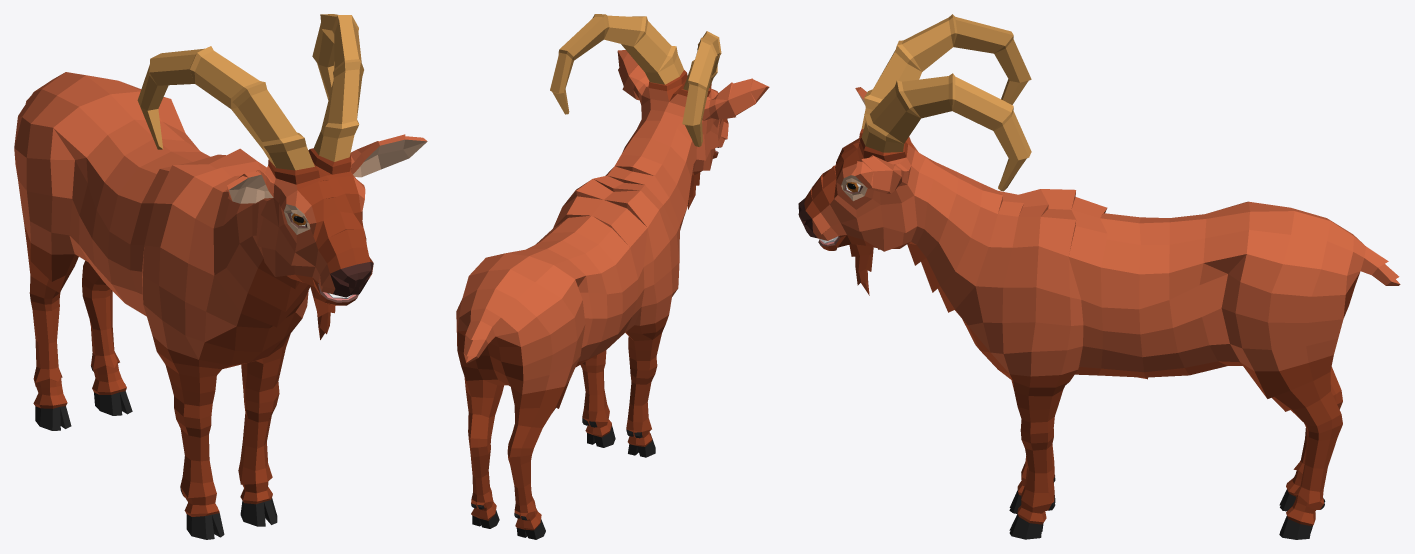
Rendered from LowPoly_Goat_Male_7.obj.
3 renders of one model, left to right at view 1: azimuth 30°, elevation 25°; view 2: azimuth 150°, elevation 25°; view 3: azimuth 270°, elevation 25°, orthographic. The views are drawn at different scales.
Visible parts, largest first — view 1: Goat_Male_7_Cube.016; view 2: Goat_Male_7_Cube.016; view 3: Goat_Male_7_Cube.016.
Part boxes in pixels (x1=…): Goat_Male_7_Cube.016: x1=14, y1=14, x2=427, y2=539; Goat_Male_7_Cube.016: x1=456, y1=14, x2=769, y2=539; Goat_Male_7_Cube.016: x1=798, y1=14, x2=1400, y2=539.
Size of the model in its own units: 0.4074 by 1.03 by 1.18.
